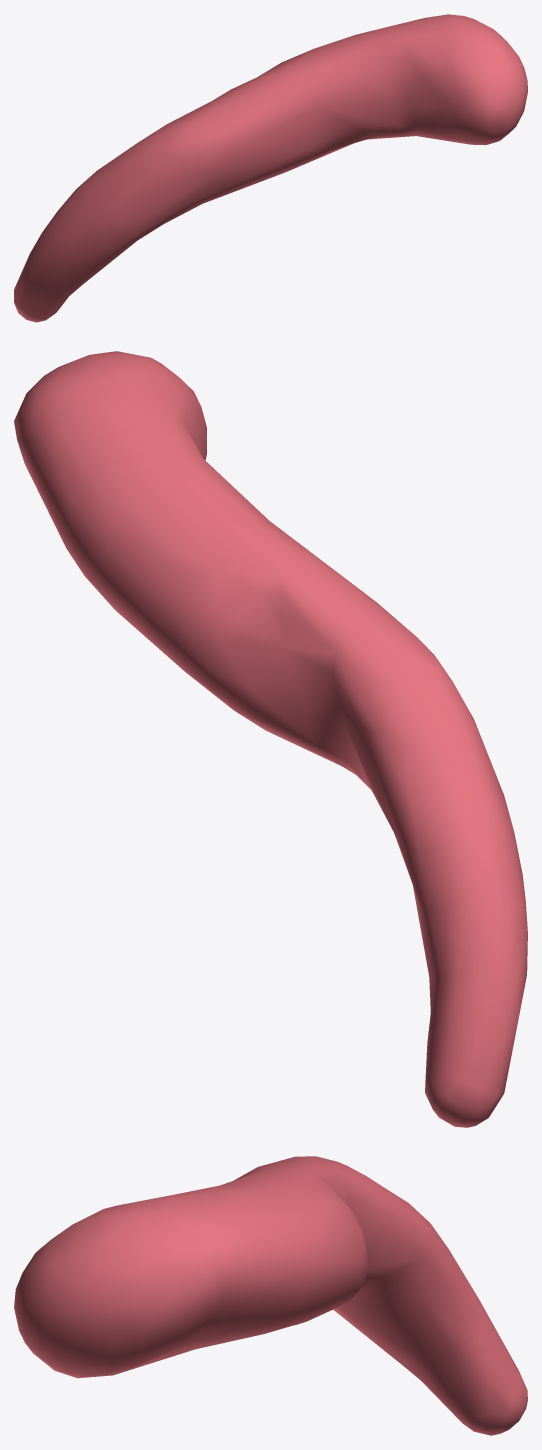
File: fma8613_fj6140.glb
3 renders of one model, top to bottom at view 1: azimuth 30°, elevation 25°; view 2: azimuth 150°, elevation 25°; view 3: azimuth 270°, elevation 25°, orthographic. The views are drawn at different scales.
Visible parts, largest first — view 1: FMA8613_FJ6140; view 2: FMA8613_FJ6140; view 3: FMA8613_FJ6140.
Part boxes in pixels (<box>): FMA8613_FJ6140: <box>14,14,527,322</box>; FMA8613_FJ6140: <box>14,351,527,1127</box>; FMA8613_FJ6140: <box>14,1156,527,1435</box>.
Bounding box in the file's own units: 0.096 × 0.0697 × 0.0685.
